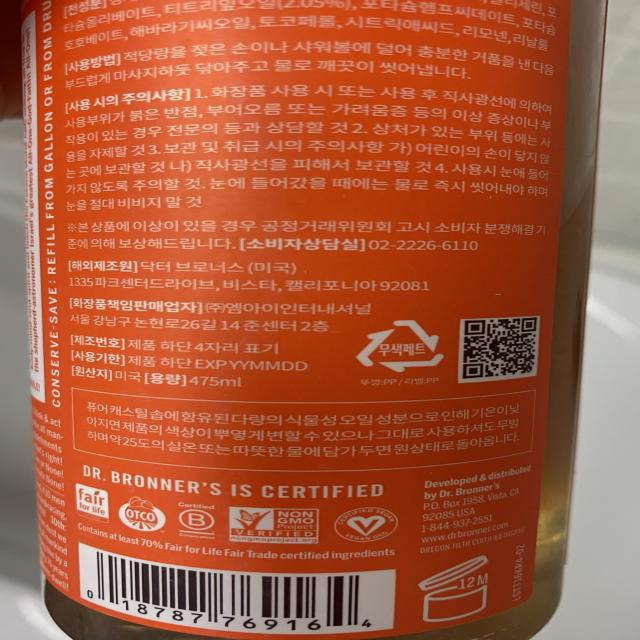ColorlessPET: (345, 313, 454, 377)
